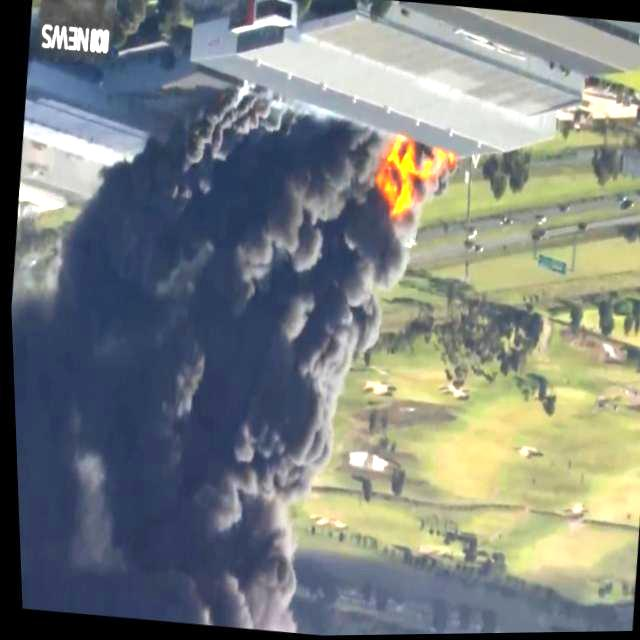fire: (366, 136, 424, 222)
